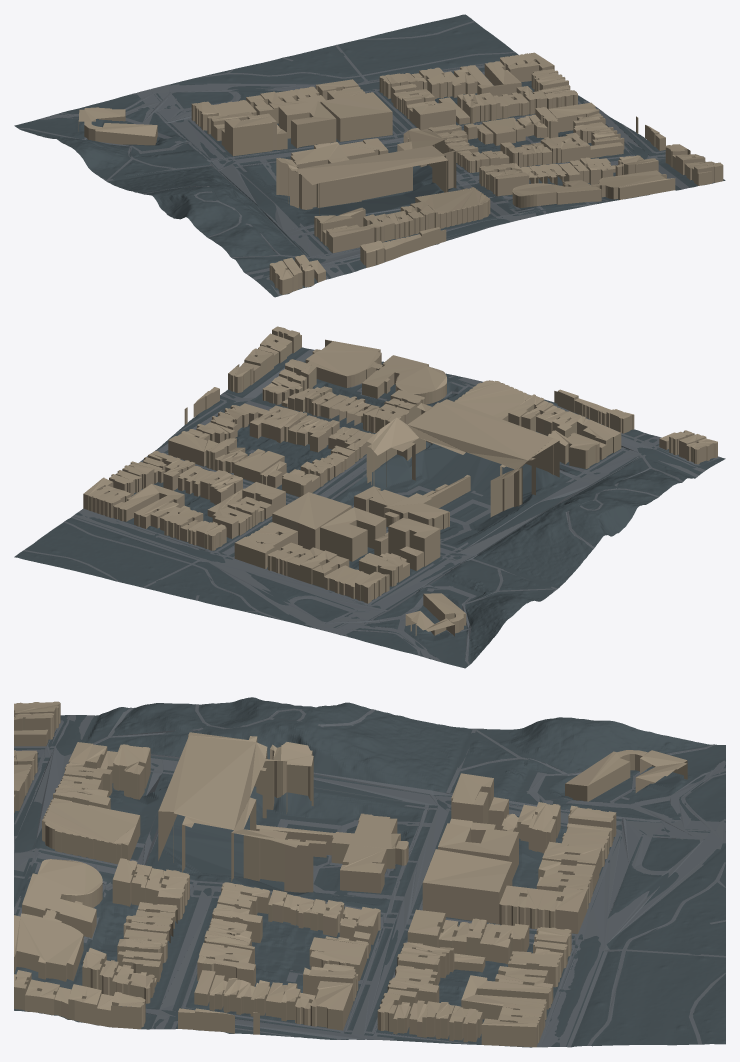
File: epsg26910-1427-10887.lod0.glb
3 renders of one model, top to bottom at view 1: azimuth 30°, elevation 25°; view 2: azimuth 150°, elevation 25°; view 3: azimuth 270°, elevation 25°, orthographic. The views are drawn at different scales.
Visible parts, largest first — view 1: epsg26910-1427-10887-lod0; view 2: epsg26910-1427-10887-lod0; view 3: epsg26910-1427-10887-lod0.
Part boxes in pixels (x1=…): epsg26910-1427-10887-lod0: x1=14, y1=14, x2=725, y2=297; epsg26910-1427-10887-lod0: x1=14, y1=326, x2=725, y2=668; epsg26910-1427-10887-lod0: x1=14, y1=697, x2=725, y2=1047.
Size of the model in its own units: 384 by 51.44 by 384.
